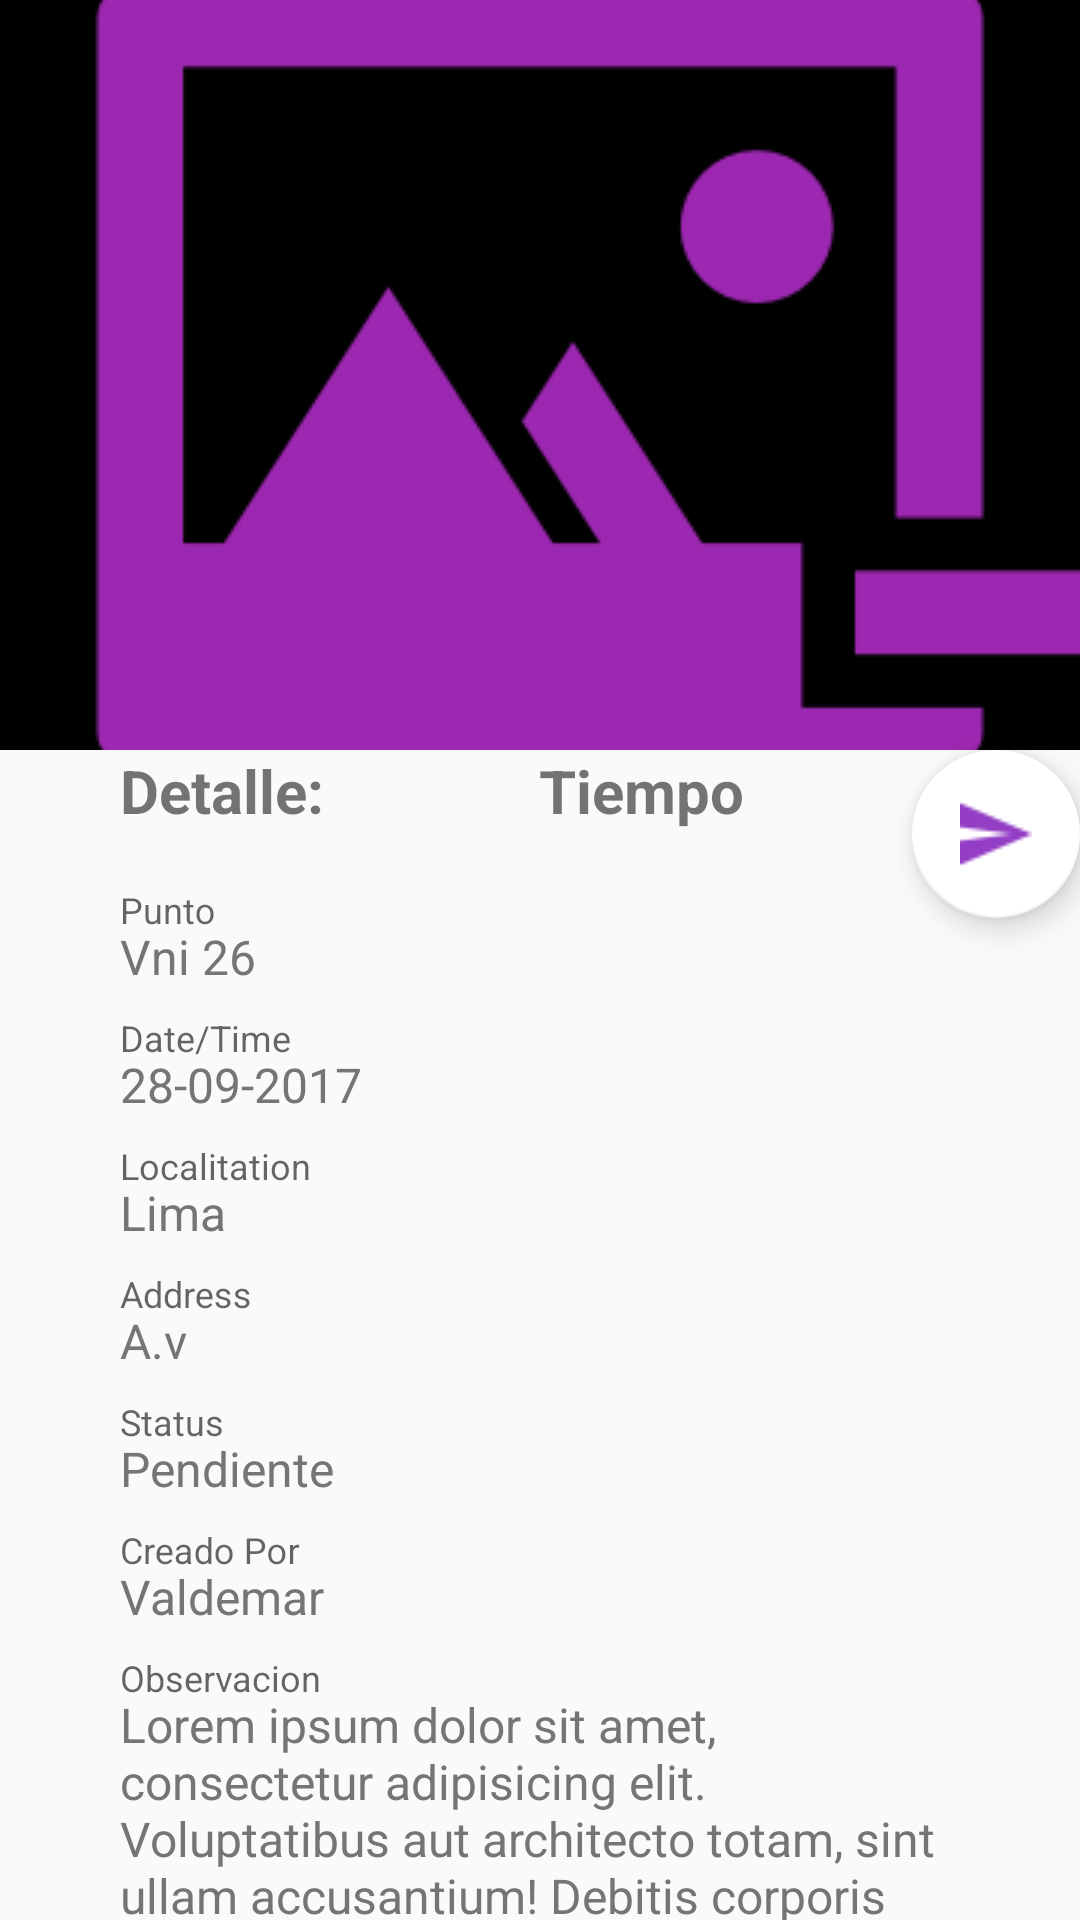

Icon click points for this 1080 x 1920 phone screenshot, format point (x, y):
sendcustom: point (996, 834)
